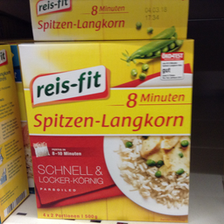rice: (16, 39, 194, 224)
